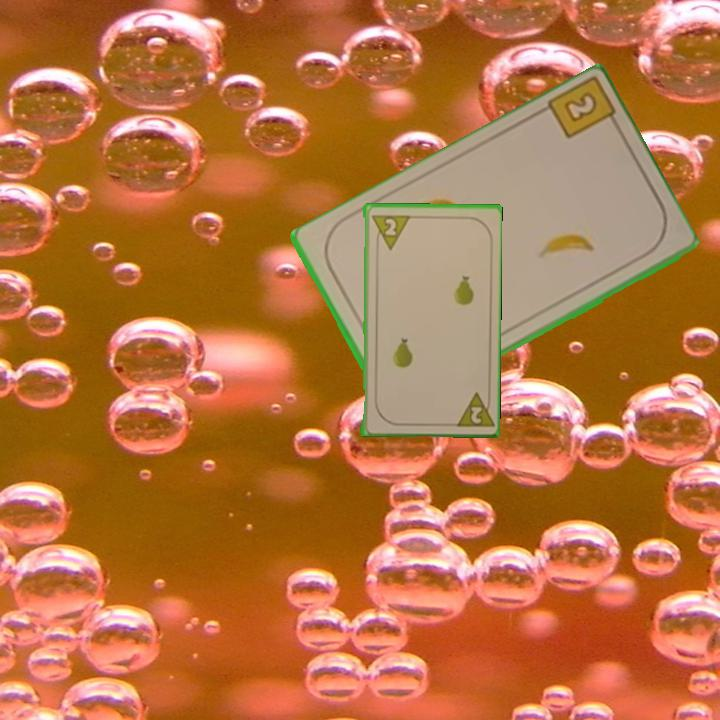2b: (542, 76, 624, 143)
2p: (450, 388, 494, 430), (368, 211, 411, 252)
